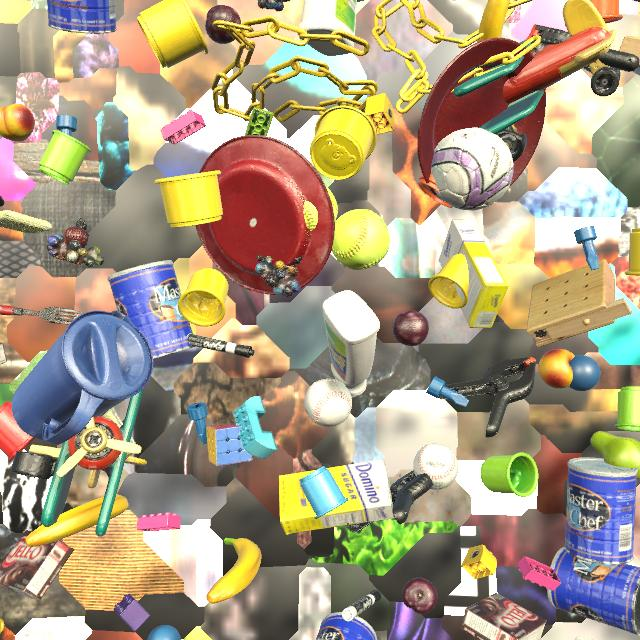ycb_002_master_chef_can: (107, 260, 195, 359), (547, 547, 640, 636), (564, 457, 638, 565), (47, 0, 117, 34), (316, 612, 377, 640)
ycb_004_sugar_box: (279, 459, 394, 535), (439, 219, 509, 328)
ycb_008_pudding_box: (0, 530, 74, 600), (462, 593, 547, 640), (0, 342, 7, 365)
ycb_011_banana: (25, 494, 129, 547), (207, 538, 261, 603), (477, 0, 510, 42)
ycb_015_peach: (538, 349, 575, 389), (0, 104, 35, 142)
ycb_016_pear: (591, 431, 640, 479)
ycb_018_plum: (205, 5, 241, 44), (392, 310, 429, 346), (402, 577, 438, 614)
